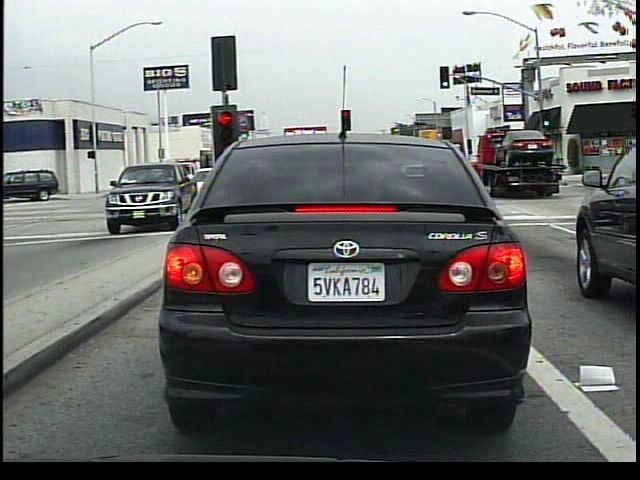person: (176, 170, 197, 196)
